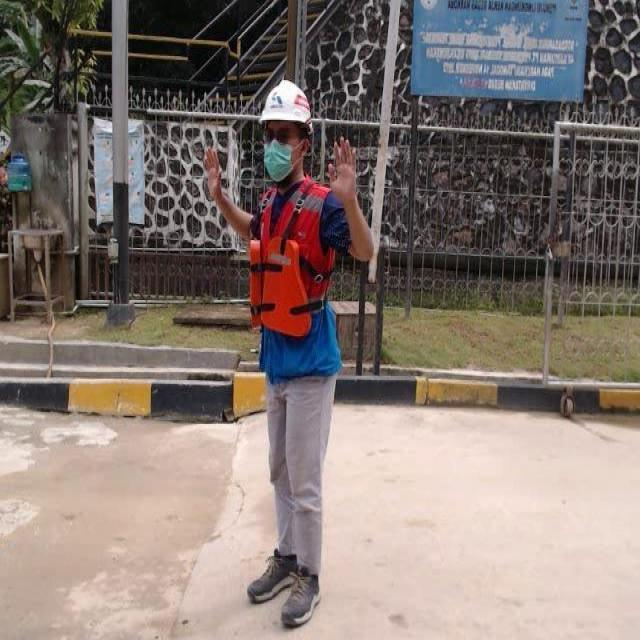helmet: (252, 74, 318, 138)
jacket: (239, 170, 345, 338)
